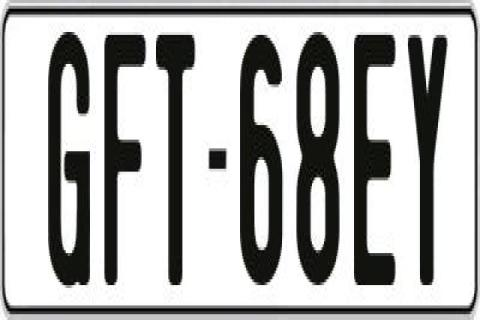0: (292, 26, 342, 294), (236, 35, 280, 285)
E: (352, 32, 394, 282)
F: (100, 29, 144, 294)
G: (47, 32, 94, 300)
T: (154, 29, 196, 291)
Y: (408, 29, 450, 282)
